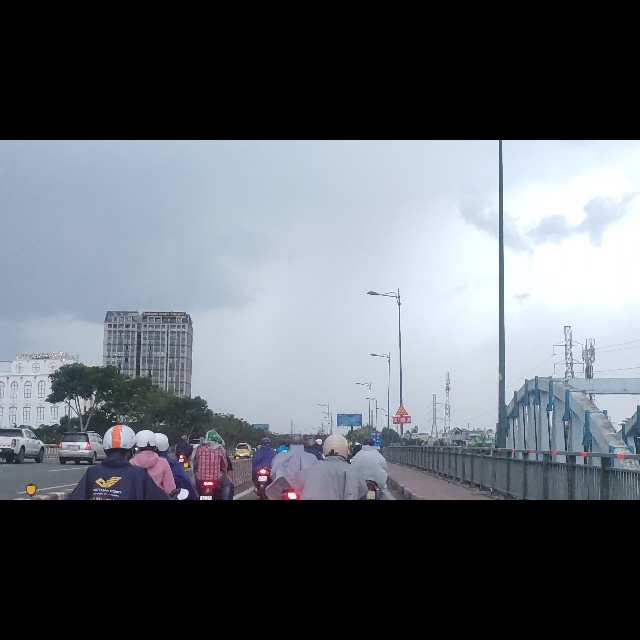bien_cam: (395, 471, 409, 489)
